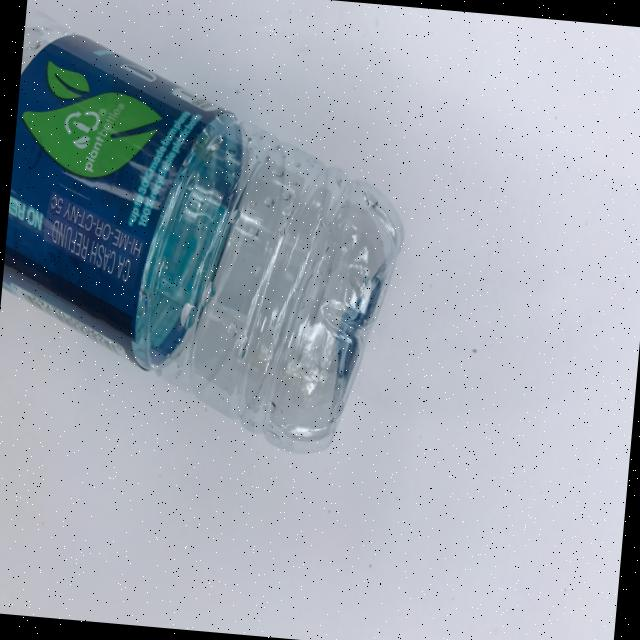plastic: (0, 6, 421, 461)
